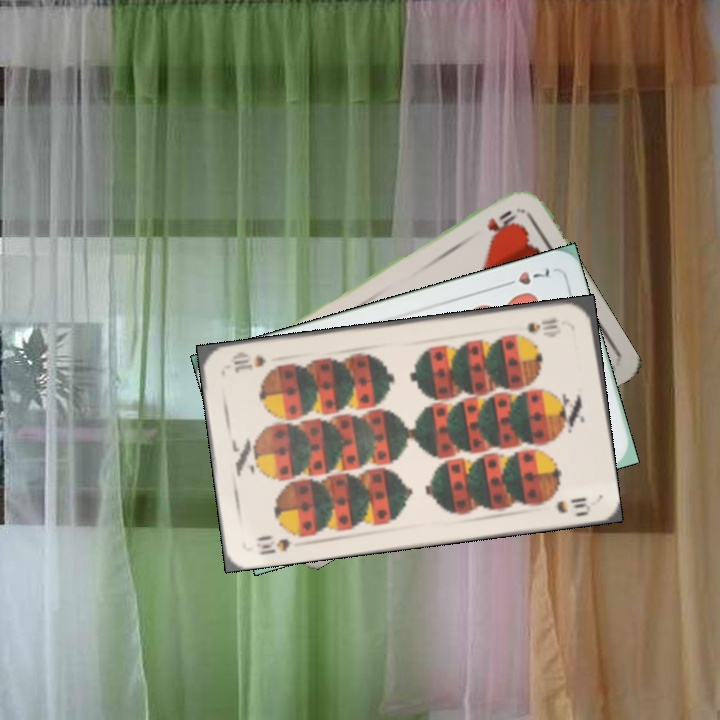H7: (498, 263, 554, 290)
HO: (483, 206, 521, 235)
S10: (251, 531, 293, 557), (523, 314, 560, 335)
